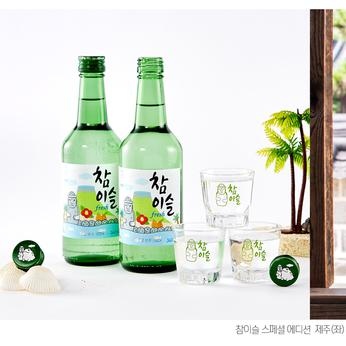soju: (58, 50, 193, 274)
